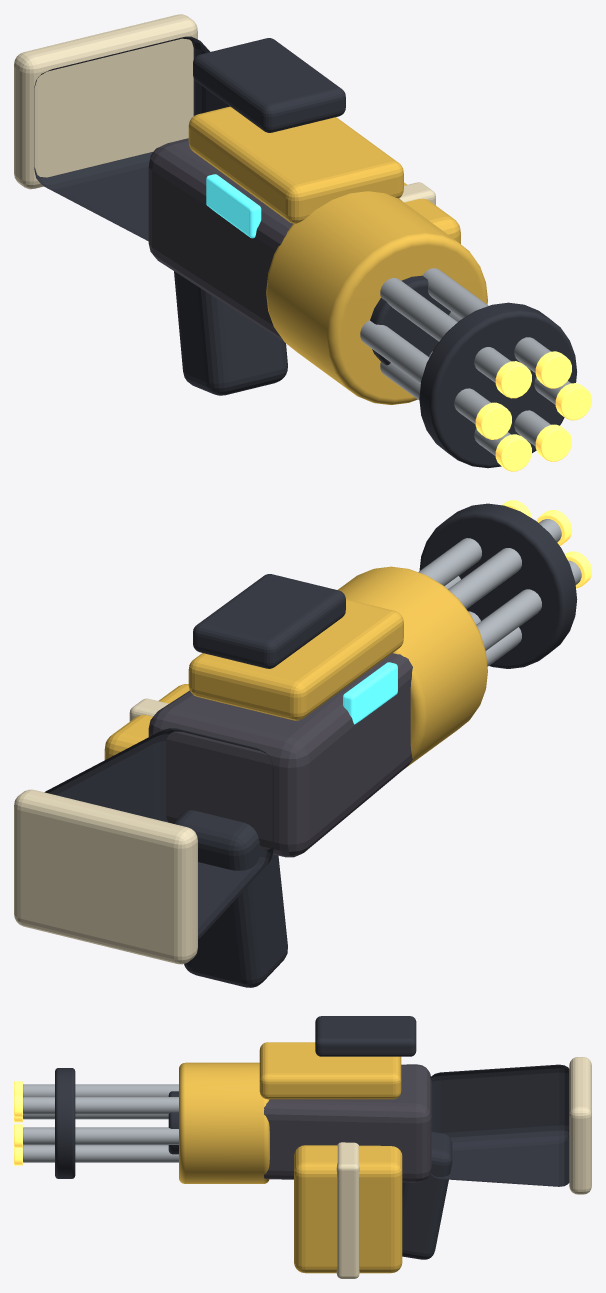
Rendered from gatling.glb.
3 views of the same model, one above another, from view 1: azimuth 30°, elevation 25°; view 2: azimuth 150°, elevation 25°; view 3: azimuth 270°, elevation 25° (orthographic). The views are drawn at different scales.
Visible parts, largest first — view 1: BarrelDrum, StockPad, ReceiverTop, Receiver, FrontBrace, CarryHandle, RearGrip, RearStock, RotaryBarrel1, RotaryBarrel0, RotaryBarrel2, BarrelDrumCore (+10 smaller); view 2: Receiver, StockPad, BarrelDrum, ReceiverTop, FrontBrace, RearGrip, CarryHandle, RearStock, RotaryBarrel1, RotaryBarrel0, StatusLight, RotaryBarrel2 (+1 smaller); view 3: RearStock, AmmoCanister, Receiver, BarrelDrum, ReceiverTop, CarryHandle, RearGrip, StockPad, AmmoCanisterBand, RotaryBarrel3, RotaryBarrel2, RotaryBarrel4 (+3 smaller).
Part boxes in pixels (bbox=[...]): BarrelDrum: bbox=[266, 191, 487, 404]; StockPad: bbox=[14, 14, 197, 189]; ReceiverTop: bbox=[188, 106, 403, 223]; Receiver: bbox=[148, 138, 401, 342]; FrontBrace: bbox=[419, 302, 576, 468]; CarryHandle: bbox=[193, 38, 345, 132]; RearGrip: bbox=[174, 271, 287, 395]; RearStock: bbox=[34, 36, 229, 241]; RotaryBarrel1: bbox=[380, 278, 510, 382]; RotaryBarrel0: bbox=[360, 320, 490, 424]; RotaryBarrel2: bbox=[422, 268, 550, 372]; BarrelDrumCore: bbox=[370, 275, 450, 365]; Receiver: bbox=[148, 653, 412, 857]; StockPad: bbox=[14, 789, 197, 964]; BarrelDrum: bbox=[338, 566, 487, 768]; ReceiverTop: bbox=[188, 599, 403, 720]; FrontBrace: bbox=[419, 503, 577, 668]; RearGrip: bbox=[173, 810, 287, 987]; CarryHandle: bbox=[193, 574, 345, 668]; RearStock: bbox=[44, 728, 273, 938]; RotaryBarrel1: bbox=[448, 519, 561, 608]; RotaryBarrel0: bbox=[476, 560, 581, 650]; StatusLight: bbox=[343, 662, 397, 724]; RotaryBarrel2: bbox=[418, 538, 481, 585]; RearStock: bbox=[430, 1064, 569, 1186]; AmmoCanister: bbox=[294, 1145, 402, 1273]; Receiver: bbox=[264, 1064, 431, 1182]; BarrelDrum: bbox=[179, 1062, 269, 1183]; ReceiverTop: bbox=[259, 1042, 401, 1099]; CarryHandle: bbox=[315, 1016, 416, 1056]; RearGrip: bbox=[402, 1132, 452, 1259]; StockPad: bbox=[569, 1057, 591, 1194]; AmmoCanisterBand: bbox=[336, 1142, 359, 1278]; RotaryBarrel3: bbox=[23, 1127, 178, 1144]; RotaryBarrel2: bbox=[23, 1097, 178, 1114]; RotaryBarrel4: bbox=[23, 1145, 178, 1162].
Bounding box in the file's own units: 0.7075 × 0.9761 × 2.29.
